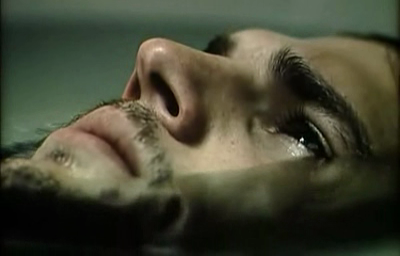ecu: (1, 1, 400, 256)
face: (1, 26, 399, 256)
person: (1, 26, 400, 256)
